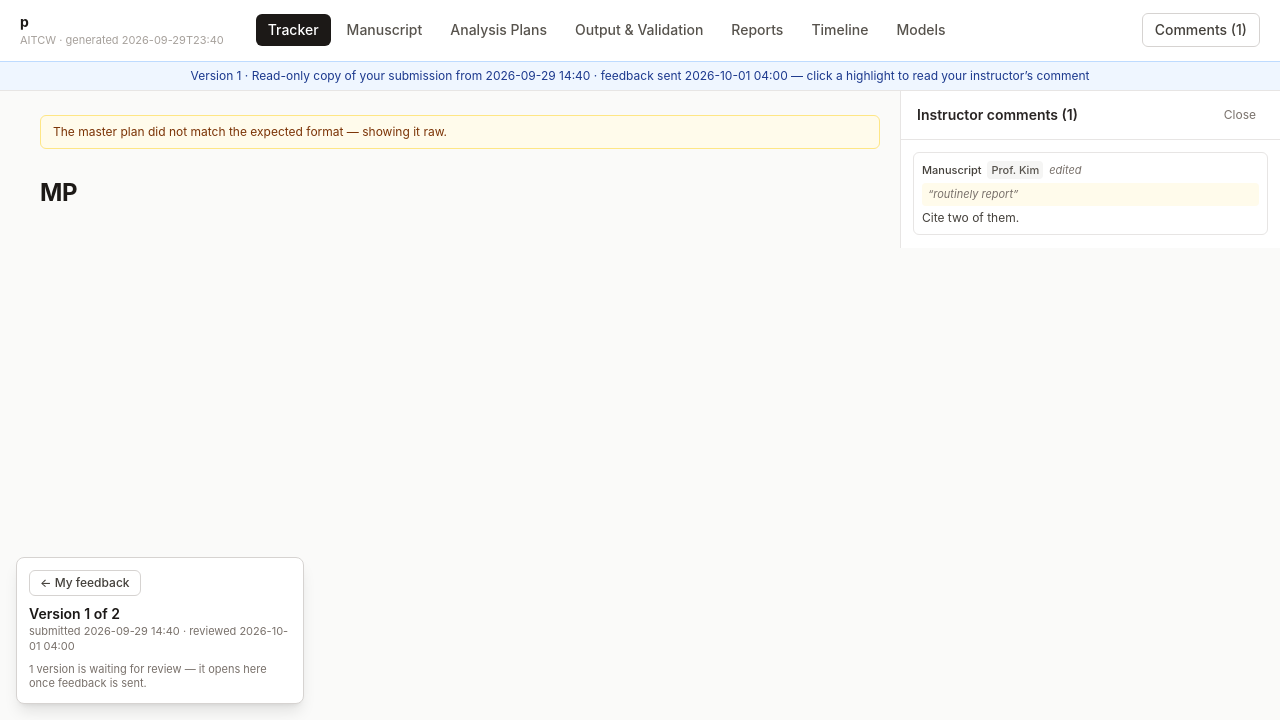
Test case: StudentHistoryApp (/me/board) › loads the student's released submission with their token and shows it read-only
Expected: the text "Read-only copy of your submission" is shown, x1=252 y1=68 x2=486 y2=82
Click the button "Manuscript" at (384, 30), box x1=335 y1=14 x2=434 y2=46
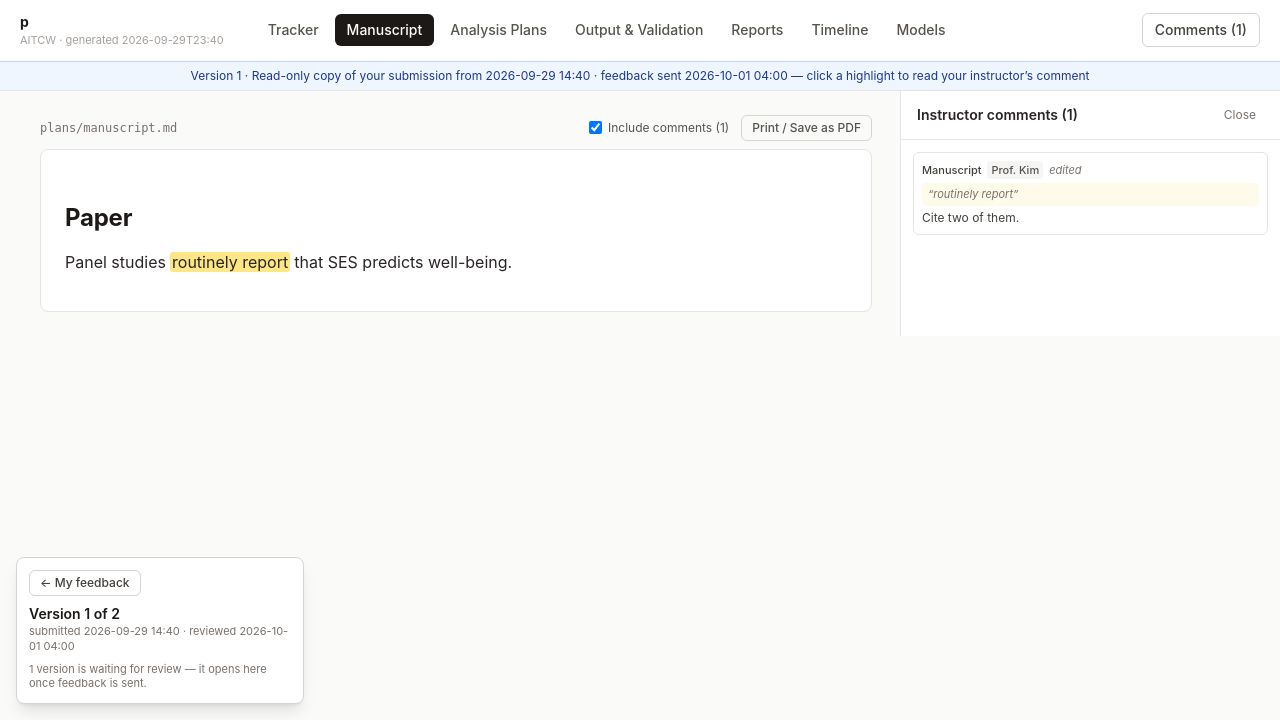
Click the text "routinely report" at (230, 262), box x1=170 y1=252 x2=290 y2=272
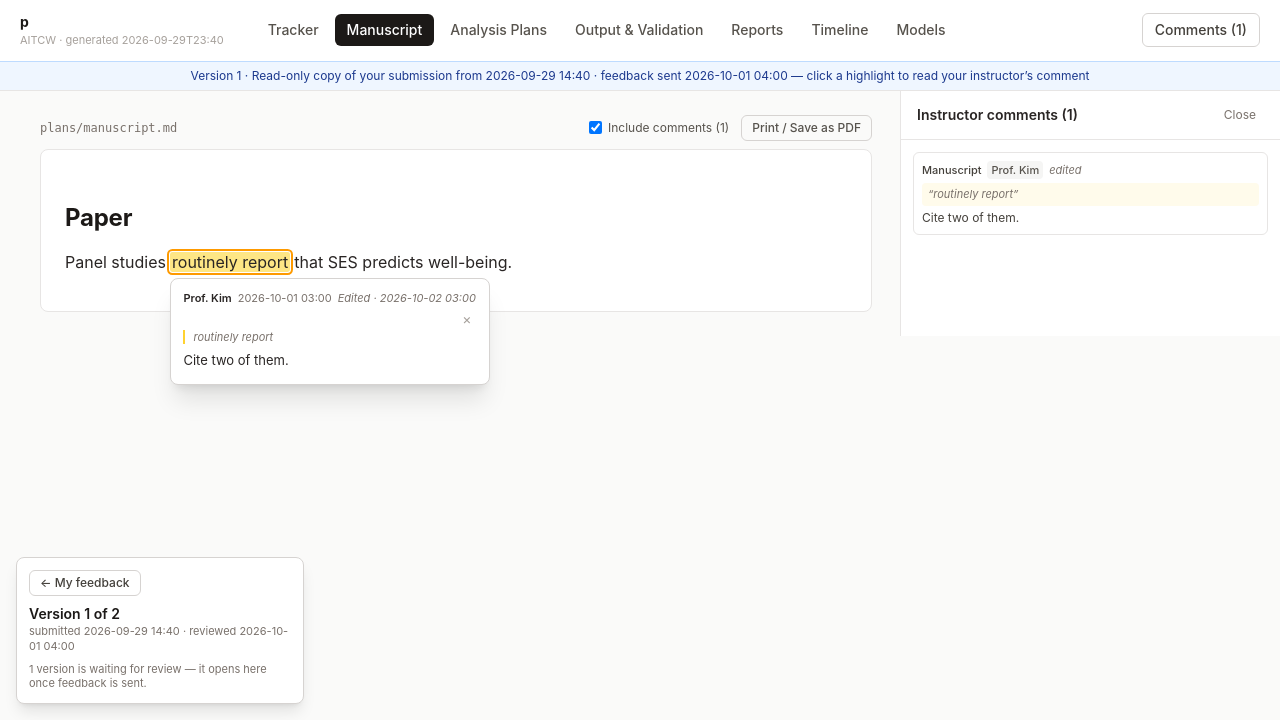
Now the dialog named "Comment" shows "Cite two of them.", box x1=184 y1=352 x2=289 y2=368
